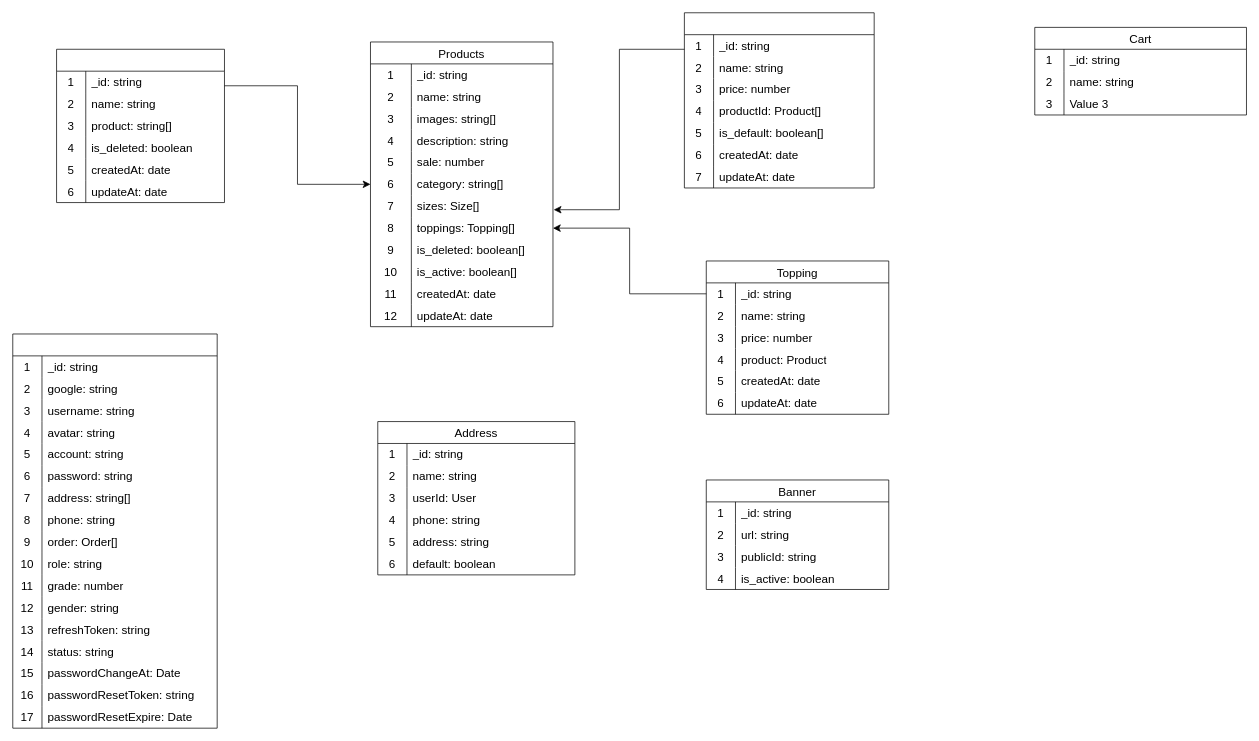
Image size: 1259x741. Some labels were removed from this diagram. The box of each missing label's shape, as (x1, y1, x2, y2) in pixels:
Category: (56, 49, 224, 203)
Sizes: (684, 12, 874, 188)
Users: (12, 333, 217, 728)
